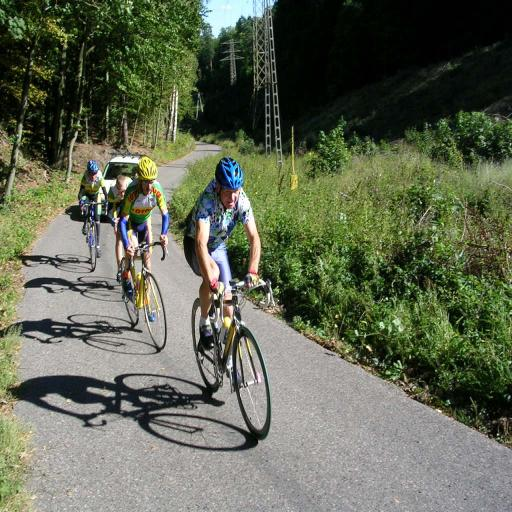Person: (182, 172, 279, 346), (112, 168, 178, 332), (64, 162, 115, 261)
helmet: (77, 171, 111, 206), (210, 179, 244, 214), (132, 174, 166, 208)
none: (120, 201, 168, 259), (198, 201, 246, 259)
